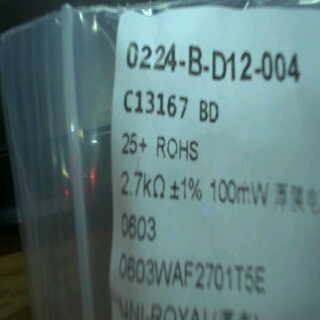2.7kR: (117, 167, 167, 201)
